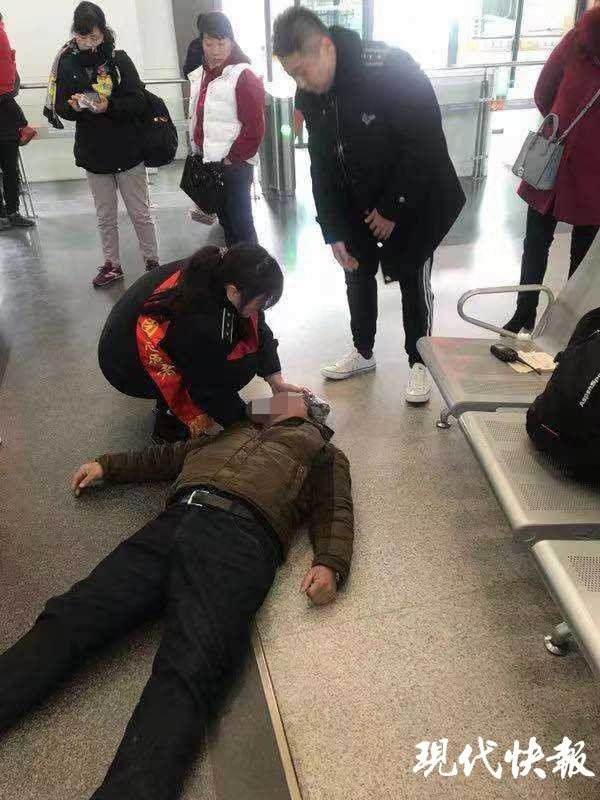falling: (501, 268, 600, 534)
